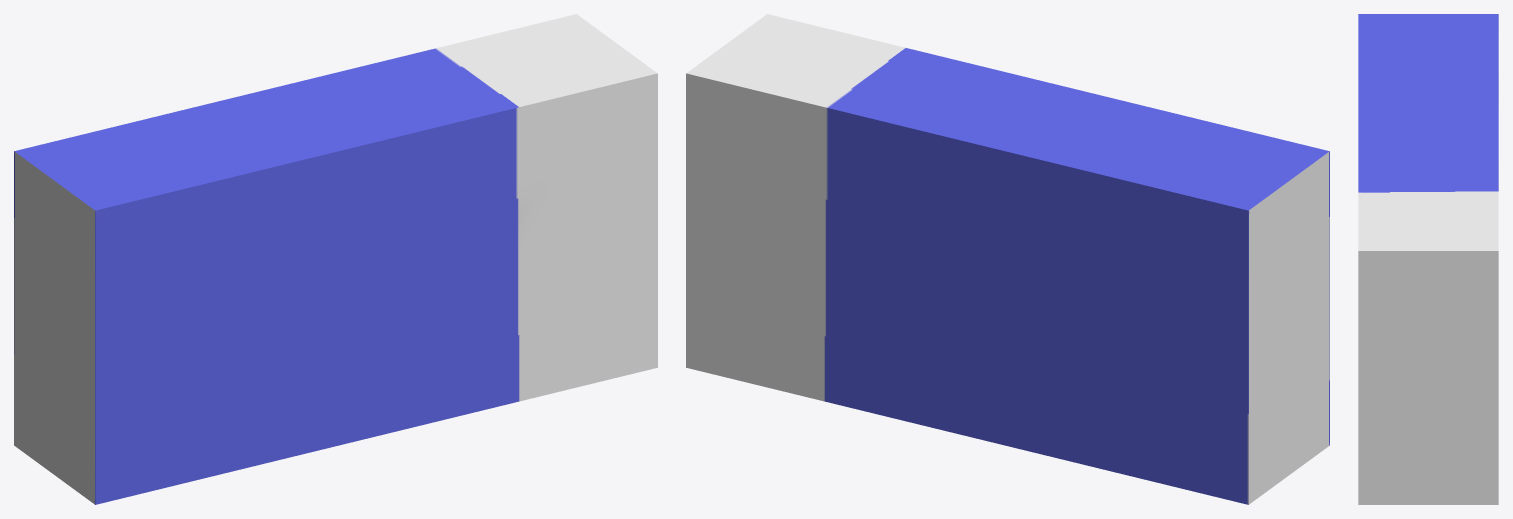
The model's file is Eraser.fbx.
3 renders of one model, left to right at view 1: azimuth 30°, elevation 25°; view 2: azimuth 150°, elevation 25°; view 3: azimuth 270°, elevation 25°, orthographic. The views are drawn at different scales.
Parts seen in each view (by area): view 1: Cube; view 2: Cube; view 3: Cube.
Part boxes in pixels (box(x1,y1,x2,y2)): Cube: box(14, 14, 657, 504); Cube: box(686, 14, 1329, 504); Cube: box(1358, 14, 1498, 504).
Size of the model in its own units: 400 by 200 by 100.
1 material, 1 textured.
